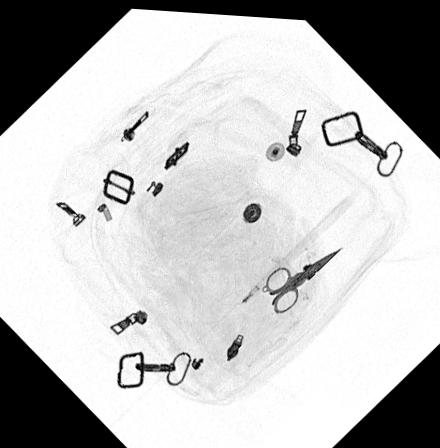Scissors: (263, 240, 344, 310)
